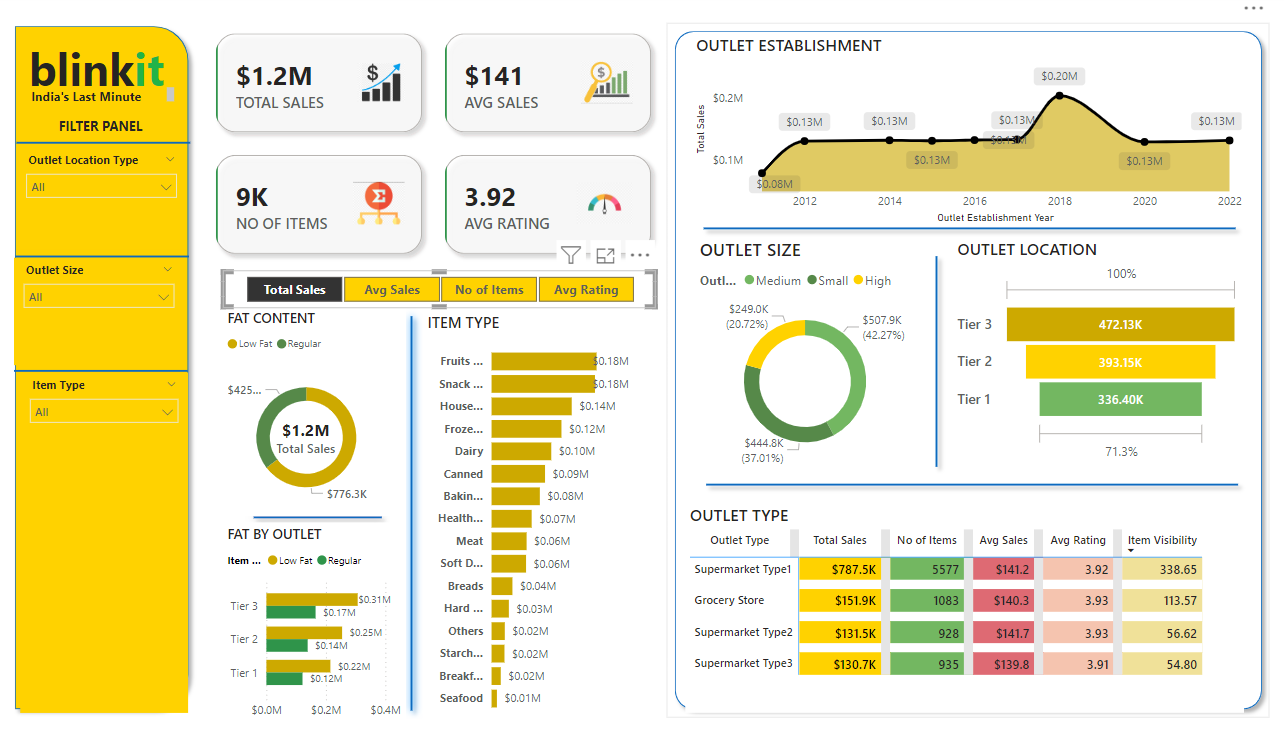

Layout of this report page (visuals, bound fields, positions):
{"tool":"powerbi","page":{"name":"Page 1","canvas":[1400,800],"ordinal":0},"visuals":[{"type":"shape","box":[13.5,25.5,204.1,750.4],"z":0},{"type":"textbox","box":[31.5,42,171.1,84],"z":1000},{"type":"textbox","box":[34.5,94.6,163.6,31.5],"z":2000},{"type":"cardVisual","fields":{"Data":["BlinkIT Grocery Data.Total Sales","BlinkIT Grocery Data.Avg Sales","BlinkIT Grocery Data.No of Items","BlinkIT Grocery Data.Avg Rating"]},"box":[221.2,25.5,500,270.8],"z":3000},{"type":"donutChart","title":"FAT CONTENT","fields":{"Y":["BlinkIT Grocery Data.No of Items"],"Category":["BlinkIT Grocery Data.Item Fat Content"]},"box":[245.3,336.5,179.6,230.6],"z":4000},{"type":"slicer","fields":{"Values":["Metrics.Metrics"]},"box":[245.3,296.2,465.1,40.2],"z":5000},{"type":"cardVisual","fields":{"Data":["BlinkIT Grocery Data.Total Sales"]},"box":[282.8,437,103.2,77.7],"z":6000},{"type":"clusteredBarChart","title":"FAT BY OUTLET","fields":{"Y":["BlinkIT Grocery Data.No of Items"],"Category":["BlinkIT Grocery Data.Outlet Location Type"],"Series":["BlinkIT Grocery Data.Item Fat Content"]},"box":[245.3,568.4,202.4,217.2],"z":7000},{"type":"shape","box":[435.7,336.5,24.1,441],"z":8000},{"type":"shape","box":[269.4,552.3,155.5,14.7],"z":9000},{"type":"barChart","title":"ITEM TYPE","fields":{"Y":["BlinkIT Grocery Data.No of Items"],"Category":["BlinkIT Grocery Data.Item Type"]},"box":[459.8,340.5,226.5,439.7],"z":10000},{"type":"shape","box":[721.2,30.8,647.5,745.3],"z":11000},{"type":"lineChart","title":"OUTLET ESTABLISHMENT","fields":{"Category":["BlinkIT Grocery Data.Outlet Establishment Year"],"Y":["BlinkIT Grocery Data.Total Sales"]},"box":[748,42.9,595.2,207.8],"z":12000},{"type":"donutChart","title":"OUTLET SIZE","fields":{"Y":["BlinkIT Grocery Data.Total Sales"],"Category":["BlinkIT Grocery Data.Outlet Size"]},"box":[752,261.4,235.9,253.4],"z":13000},{"type":"shape","box":[752,230.6,588.5,41.6],"z":14000},{"type":"funnel","title":"OUTLET LOCATION","fields":{"Category":["BlinkIT Grocery Data.Outlet Location Type"],"Y":["Sum(BlinkIT Grocery Data.Sales)"]},"box":[1028.2,261.4,312.3,244],"z":15000},{"type":"shape","box":[754.7,505.4,588.5,41.6],"z":16000},{"type":"pivotTable","title":"OUTLET TYPE","fields":{"Rows":["BlinkIT Grocery Data.Outlet Type"],"Values":["BlinkIT Grocery Data.Total Sales","BlinkIT Grocery Data.No of Items","BlinkIT Grocery Data.Avg Sales","BlinkIT Grocery Data.Avg Rating","Sum(BlinkIT Grocery Data.Item Visibility)"]},"box":[741.3,546.9,599.2,223.9],"z":17000},{"type":"shape","box":[992,272.1,37.5,244],"z":18000},{"type":"slicer","fields":{"Values":["BlinkIT Grocery Data.Outlet Location Type"]},"box":[24.1,164.9,182.3,108.6],"z":19000},{"type":"slicer","fields":{"Values":["BlinkIT Grocery Data.Outlet Size"]},"box":[21.4,282.8,182.3,115.3],"z":20000},{"type":"slicer","fields":{"Values":["BlinkIT Grocery Data.Item Type"]},"box":[28.2,406.2,179.6,364.6],"z":21000},{"type":"shape","box":[24.1,147.5,186.3,24.1],"z":22000},{"type":"shape","box":[22.8,273.5,186.3,16.1],"z":23000},{"type":"shape","box":[21.4,398.1,186.3,12.1],"z":24000},{"type":"textbox","box":[64.3,127.3,113.9,32.2],"z":25000}]}

Visuals, with their boxes in screenshot pixels (x1, y1, x2, y2), scaled from the page's 1400x800 canvas onto the 1284x735 screenshot:
shape: bbox(12, 23, 200, 713)
textbox: bbox(29, 39, 186, 116)
textbox: bbox(32, 87, 182, 116)
cardVisual - BlinkIT Grocery Data.Total Sales x BlinkIT Grocery Data.Avg Sales: bbox(203, 23, 661, 272)
"FAT CONTENT" donutChart: bbox(225, 309, 390, 521)
slicer - Metrics.Metrics: bbox(225, 272, 652, 309)
cardVisual - BlinkIT Grocery Data.Total Sales: bbox(259, 401, 354, 473)
"FAT BY OUTLET" clusteredBarChart: bbox(225, 522, 411, 722)
shape: bbox(400, 309, 422, 714)
shape: bbox(247, 507, 390, 521)
"ITEM TYPE" barChart: bbox(422, 313, 629, 717)
shape: bbox(661, 28, 1255, 713)
"OUTLET ESTABLISHMENT" lineChart: bbox(686, 39, 1232, 230)
"OUTLET SIZE" donutChart: bbox(690, 240, 906, 473)
shape: bbox(690, 212, 1229, 250)
"OUTLET LOCATION" funnel: bbox(943, 240, 1229, 464)
shape: bbox(692, 464, 1232, 503)
"OUTLET TYPE" pivotTable: bbox(680, 502, 1229, 708)
shape: bbox(910, 250, 944, 474)
slicer - BlinkIT Grocery Data.Outlet Location Type: bbox(22, 152, 189, 251)
slicer - BlinkIT Grocery Data.Outlet Size: bbox(20, 260, 187, 366)
slicer - BlinkIT Grocery Data.Item Type: bbox(26, 373, 191, 708)
shape: bbox(22, 136, 193, 158)
shape: bbox(21, 251, 192, 266)
shape: bbox(20, 366, 190, 377)
textbox: bbox(59, 117, 163, 147)
